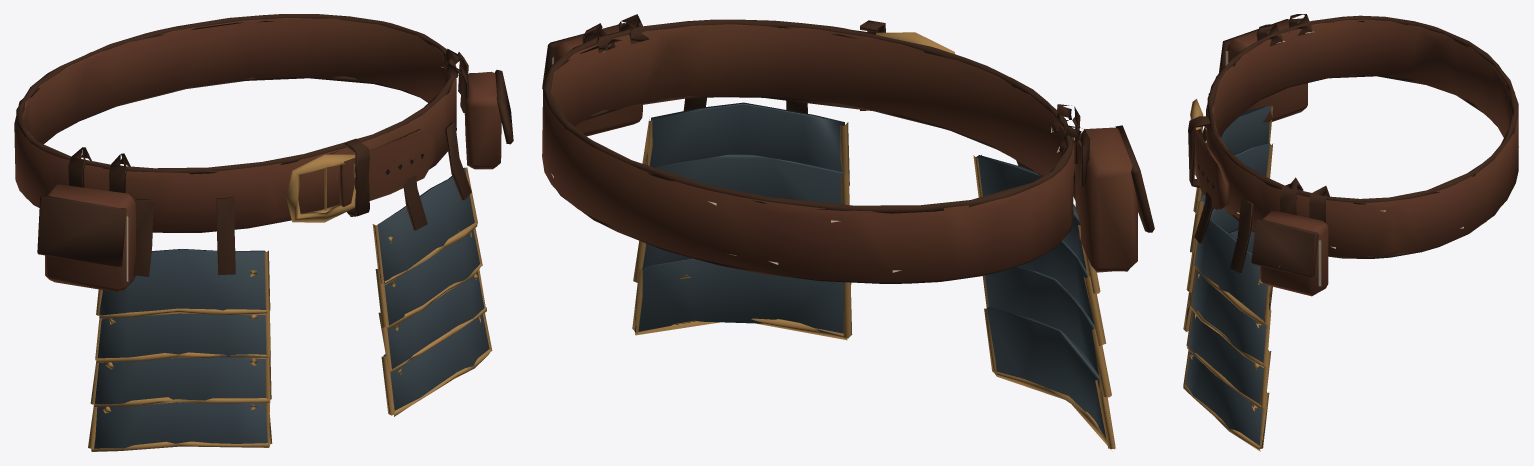
The picture shows the model from 3 angles, left to right: view 1: azimuth 30°, elevation 25°; view 2: azimuth 150°, elevation 25°; view 3: azimuth 270°, elevation 25°; orthographic projection. The views are drawn at different scales.
Parts seen in each view (by area): view 1: tanned leather, aged alloy edge; view 2: tanned leather, aged alloy edge; view 3: tanned leather, aged alloy edge.
Part boxes in pixels (x1=…): tanned leather: x1=14, y1=14, x2=513, y2=292; aged alloy edge: x1=88, y1=124, x2=512, y2=451; tanned leather: x1=542, y1=14, x2=1154, y2=283; aged alloy edge: x1=632, y1=32, x2=1115, y2=451; tanned leather: x1=1188, y1=14, x2=1518, y2=296; aged alloy edge: x1=1183, y1=99, x2=1279, y2=451.
Size of the model in its own units: 0.4564 by 0.2523 by 0.2901.
